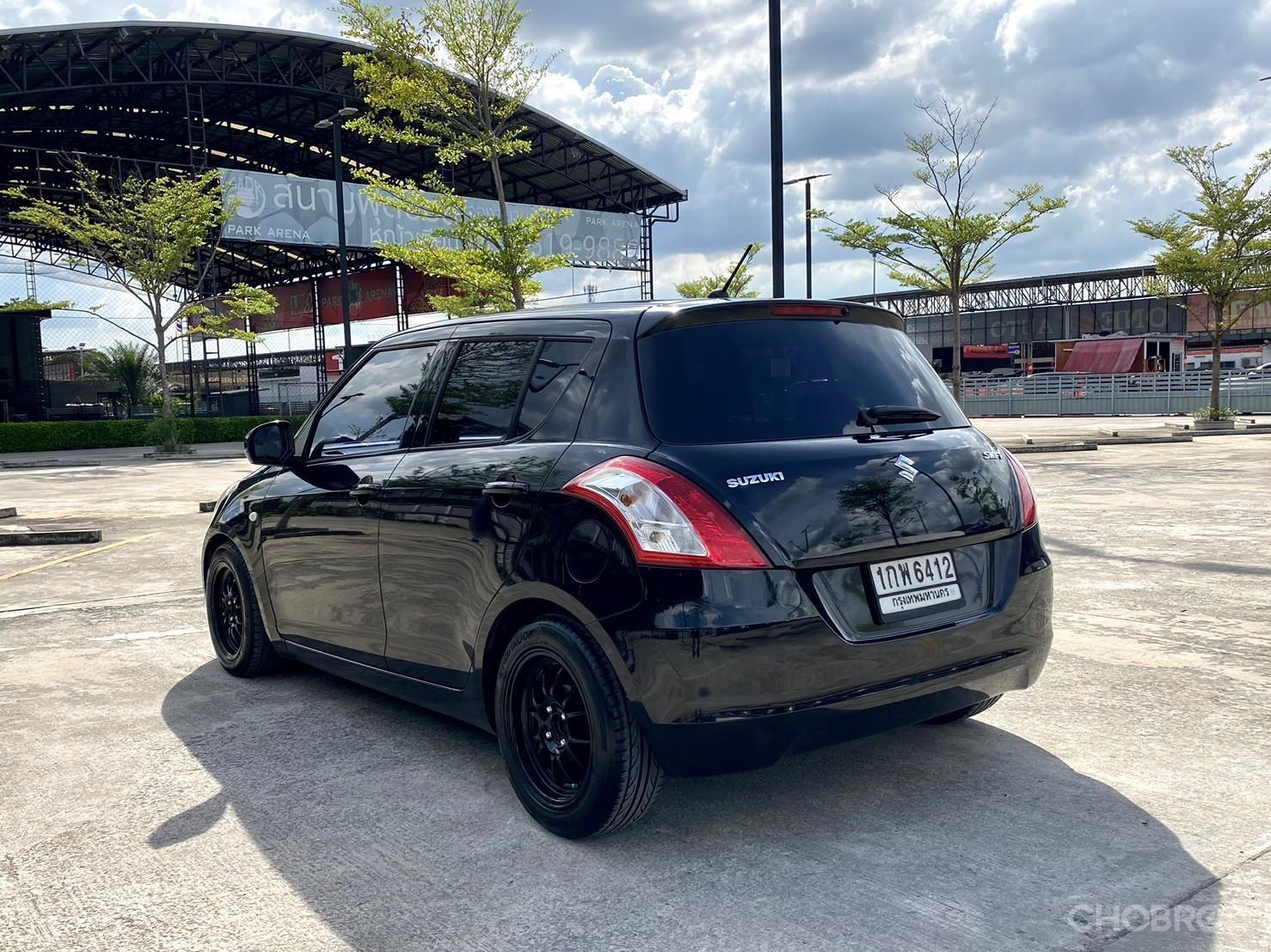license-plate: (866, 547, 968, 618)
